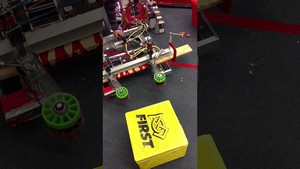cube: (120, 107, 194, 166)
